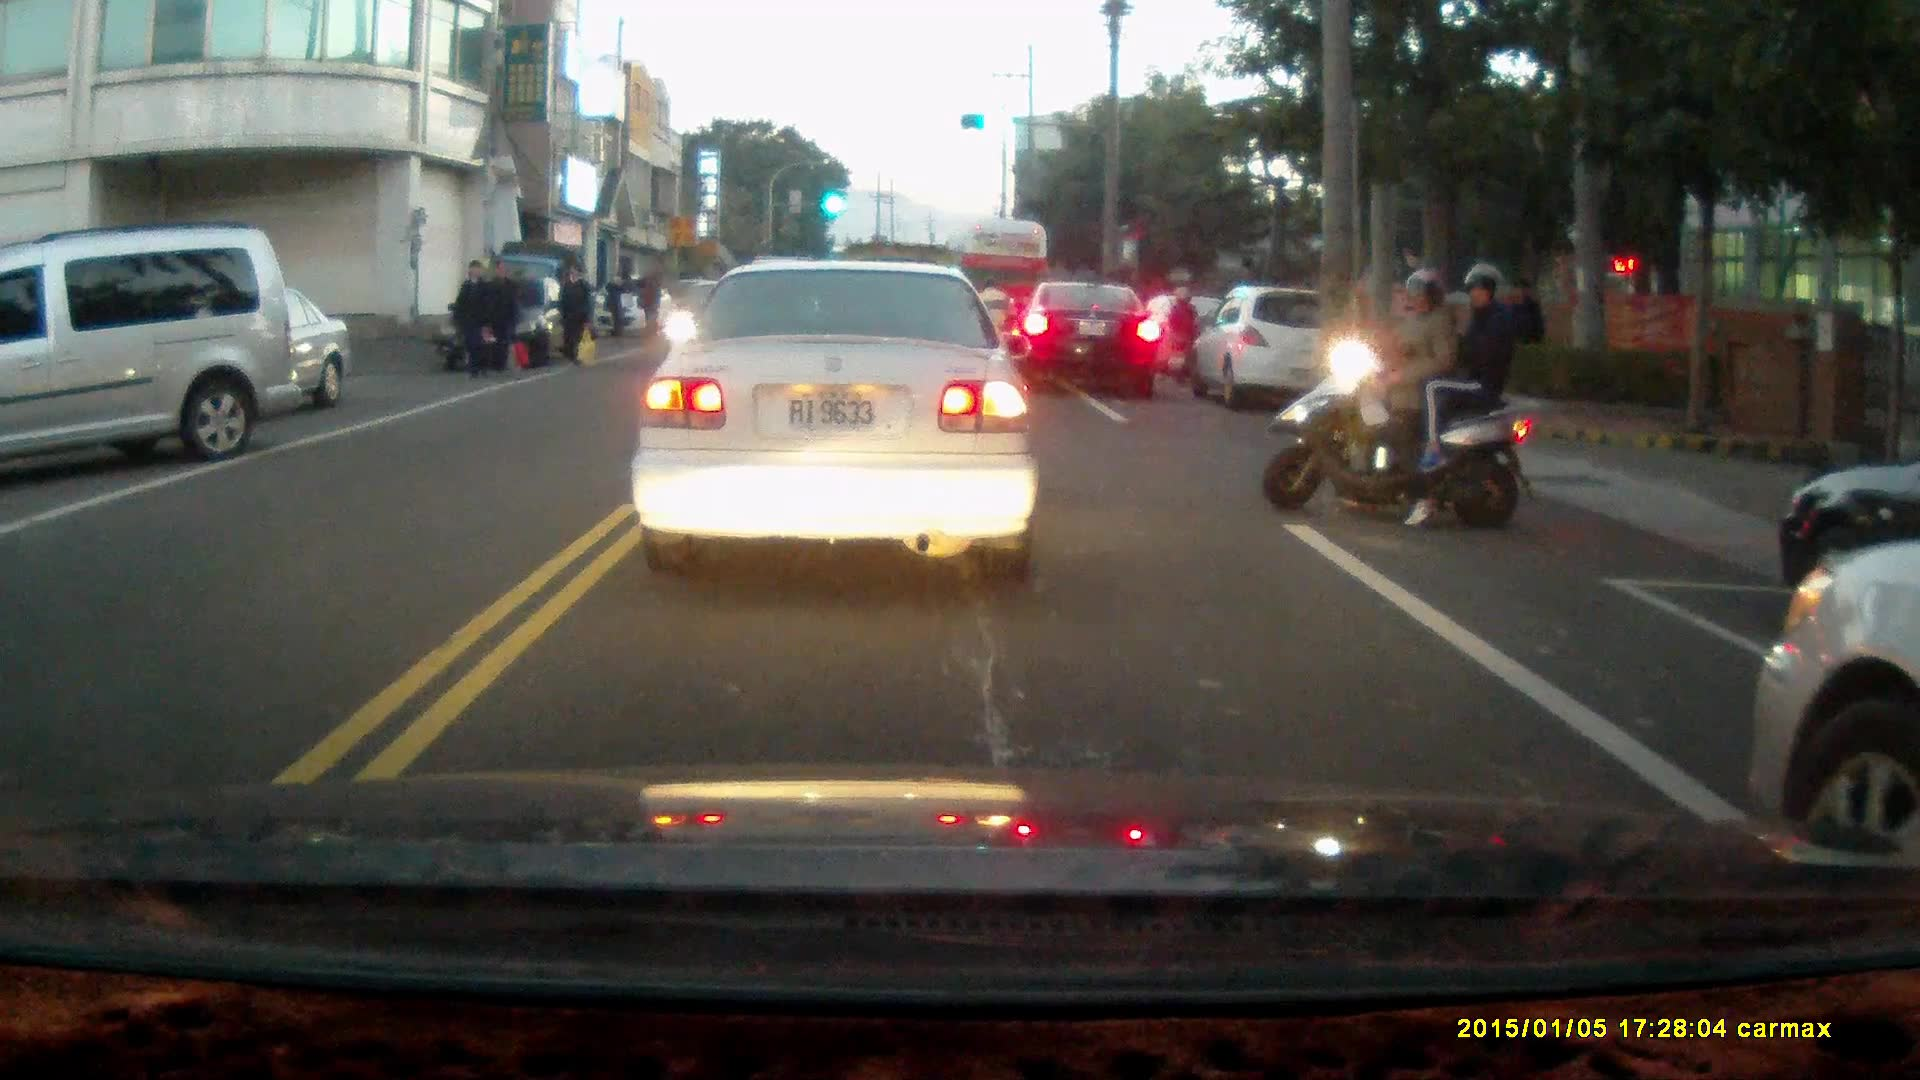pedestrian: (450, 261, 496, 385), (1499, 274, 1545, 379), (550, 262, 591, 371), (479, 264, 515, 381), (601, 265, 631, 348), (637, 267, 664, 338)
rider: (1267, 259, 1552, 534), (1161, 281, 1202, 388)
vehicle: (629, 259, 1038, 579), (1, 230, 287, 477), (1742, 547, 1920, 845), (1190, 285, 1356, 403), (1009, 281, 1161, 400), (441, 276, 581, 377)
